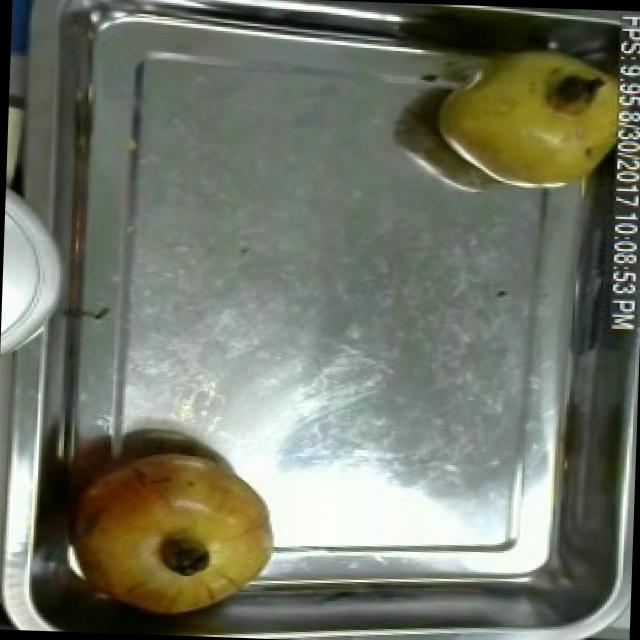fruit: (52, 439, 286, 627), (422, 36, 634, 202)
